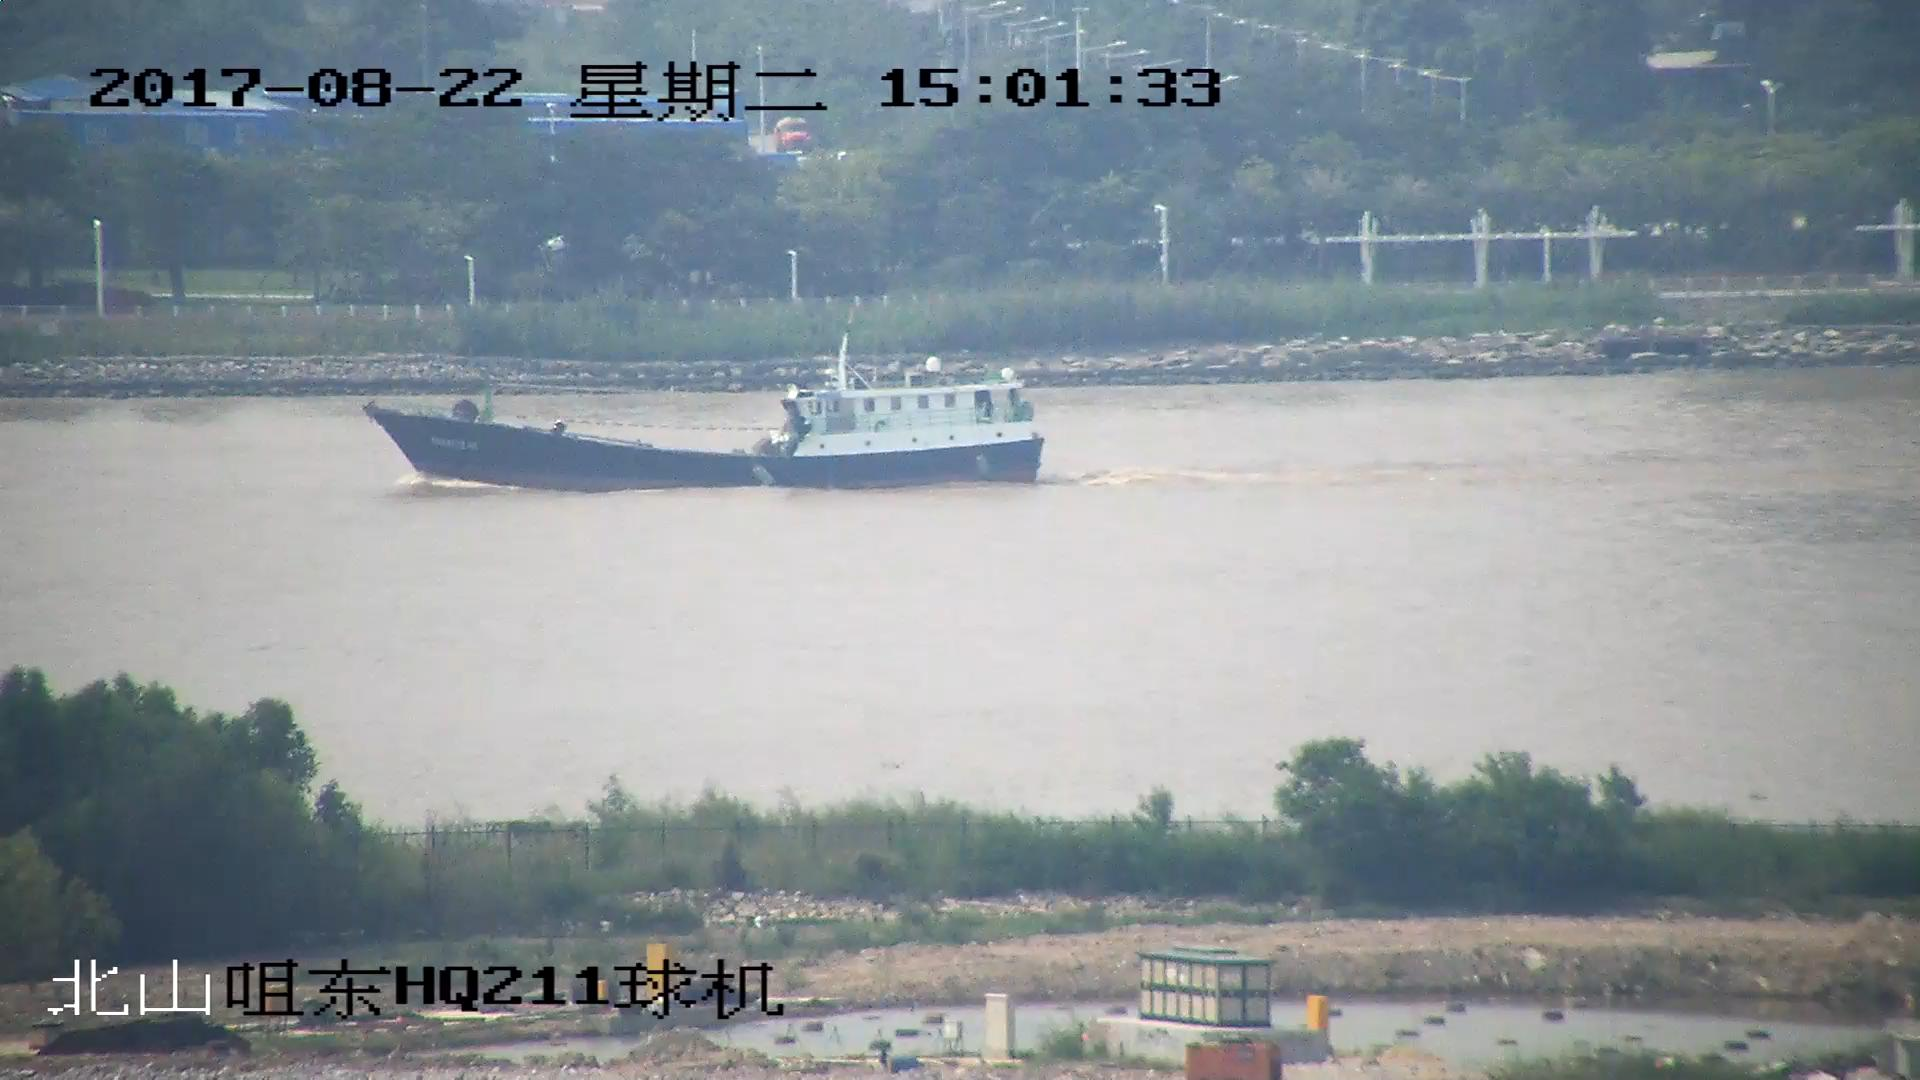fishing boat: (368, 338, 1049, 491)
